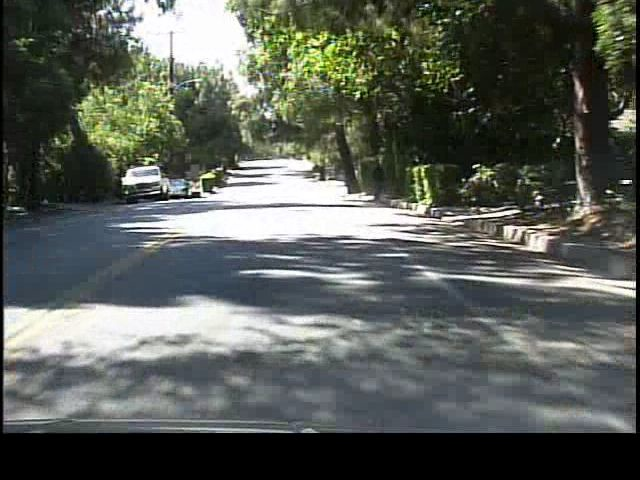person: (369, 155, 387, 205)
